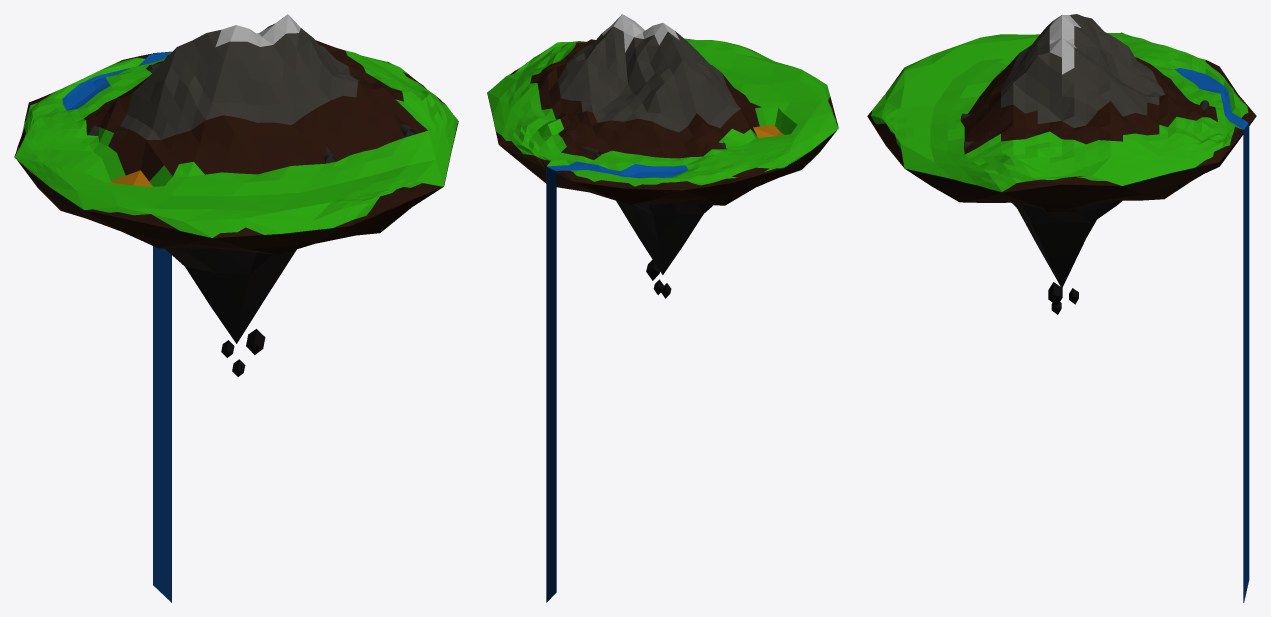
Rendered from mountian3.obj.
3 renders of one model, left to right at view 1: azimuth 30°, elevation 25°; view 2: azimuth 150°, elevation 25°; view 3: azimuth 270°, elevation 25°, orthographic. The views are drawn at different scales.
Visible parts, largest first — view 1: Icosphere.001, Icosphere, Cube.003; view 2: Icosphere.001, Icosphere, Cube.003; view 3: Icosphere.001, Icosphere, Cube.003.
Part boxes in pixels (x1=…): Icosphere.001: x1=14, y1=14, x2=458, y2=237; Icosphere: x1=14, y1=61, x2=458, y2=343; Cube.003: x1=153, y1=51, x2=171, y2=602; Icosphere.001: x1=487, y1=14, x2=838, y2=194; Icosphere: x1=487, y1=70, x2=836, y2=274; Cube.003: x1=546, y1=166, x2=556, y2=602; Icosphere.001: x1=867, y1=14, x2=1256, y2=191; Icosphere: x1=868, y1=32, x2=1254, y2=287; Cube.003: x1=1243, y1=124, x2=1249, y2=602.
Bounding box in the file's own units: 15.1 × 25.65 × 15.86.
